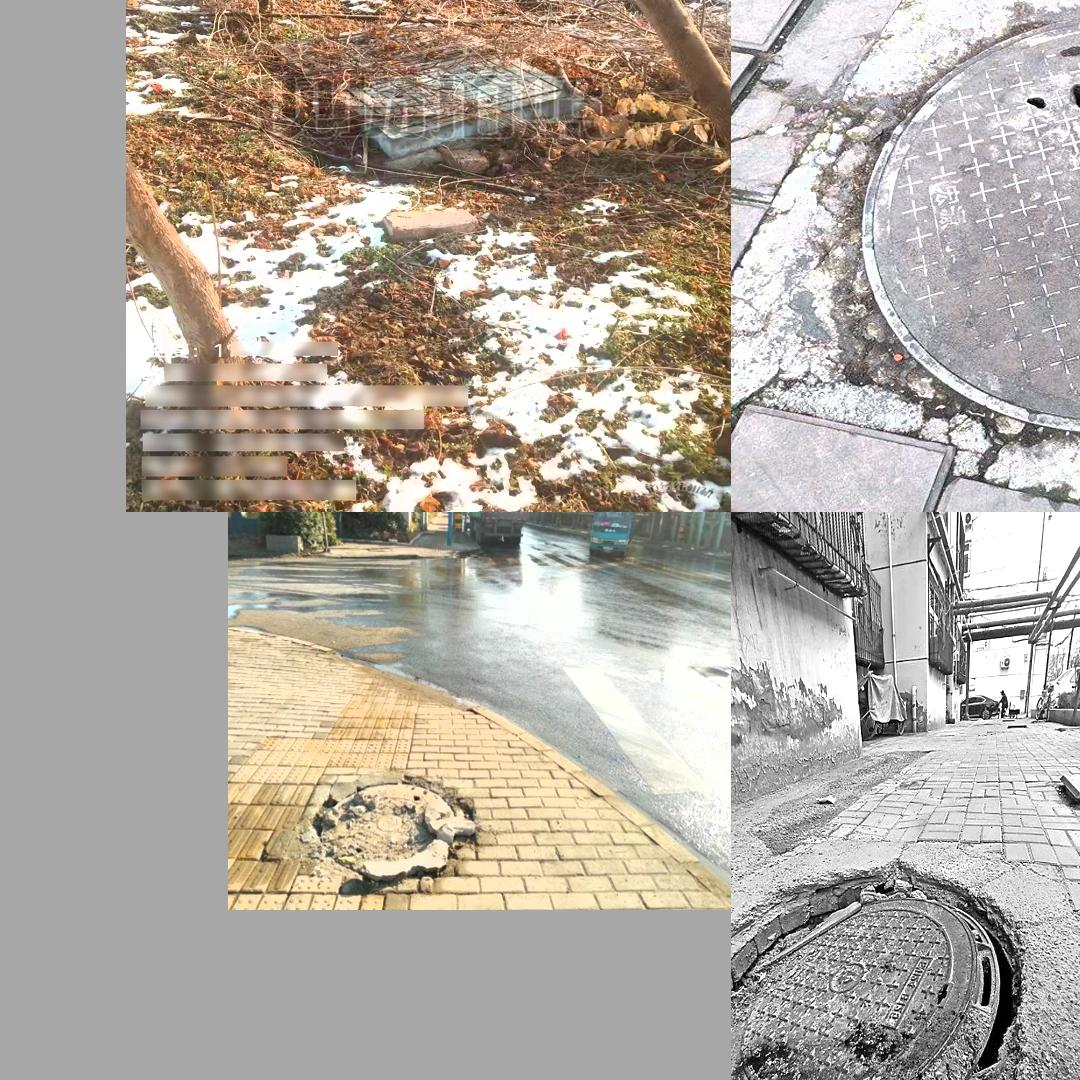circle: (751, 0, 1080, 498), (731, 841, 1040, 1080), (274, 14, 588, 164), (292, 763, 475, 885)
